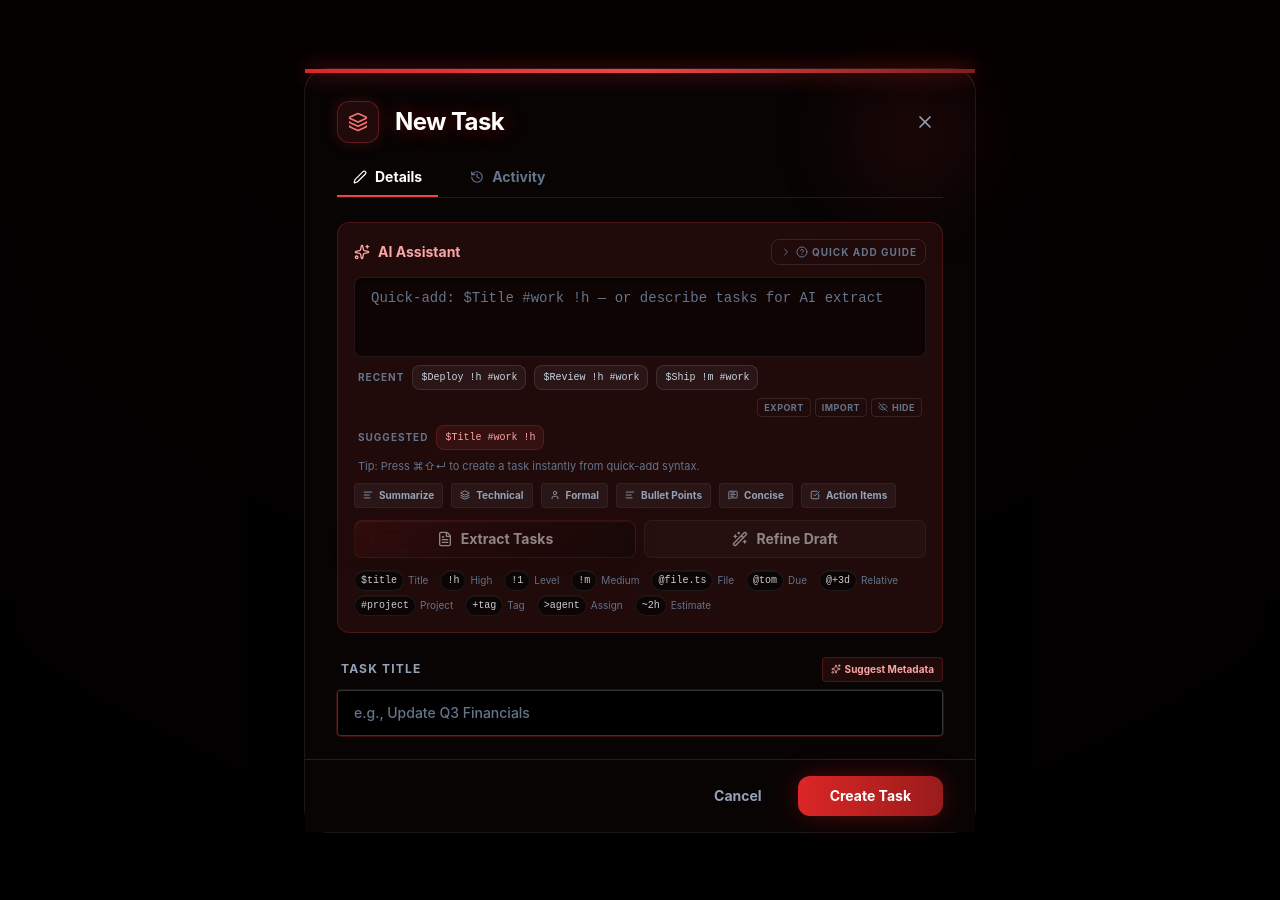
TaskFormModal AI Integration › handles AI Breakdown for subtasks
Type "Main Task" into the field with placeholder "e.g., Update Q3 Financials". click: (640, 712)
box: [337,690,943,736]
(page scrolled)
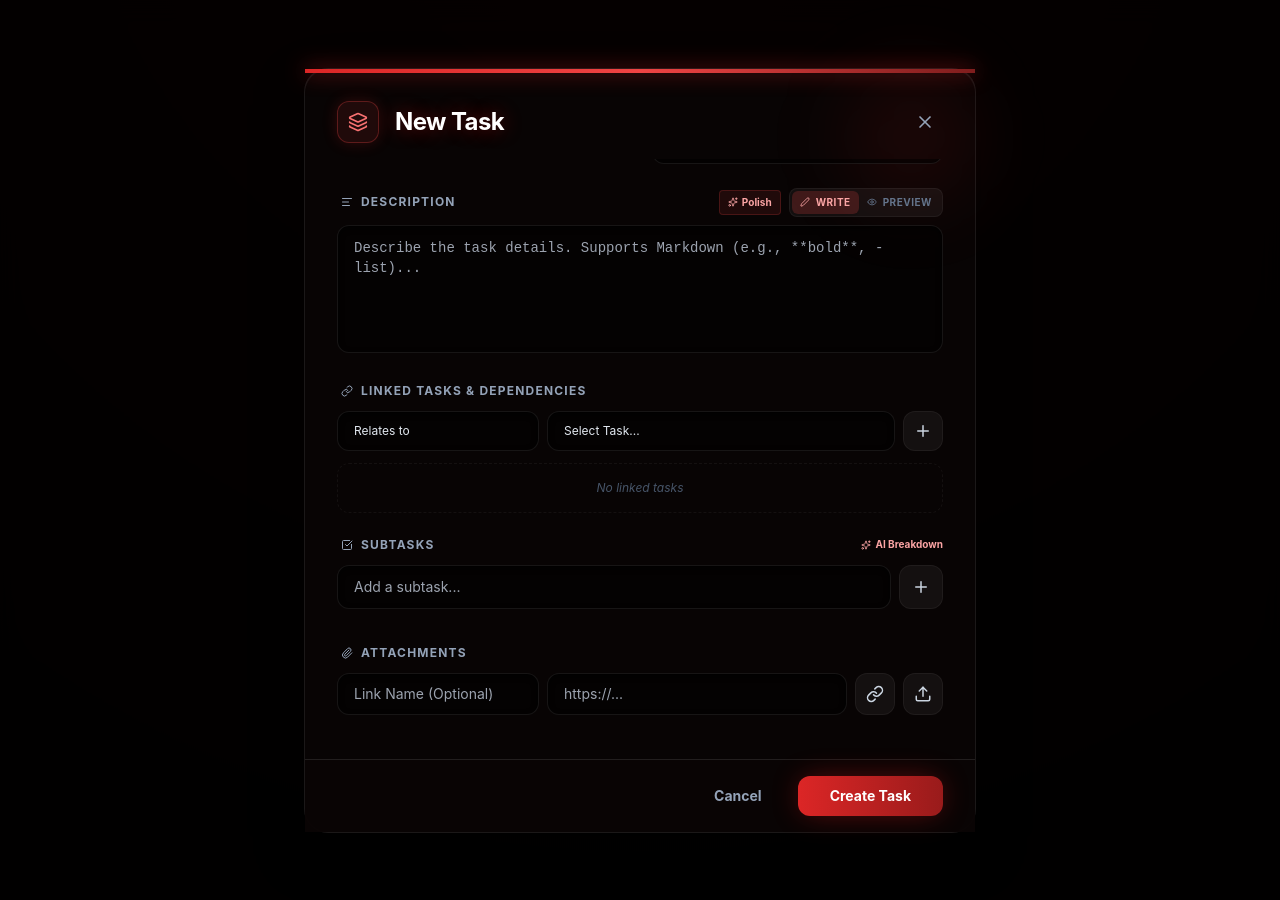
Click the button "AI Breakdown". click: (902, 544)
box: [861,537,943,552]
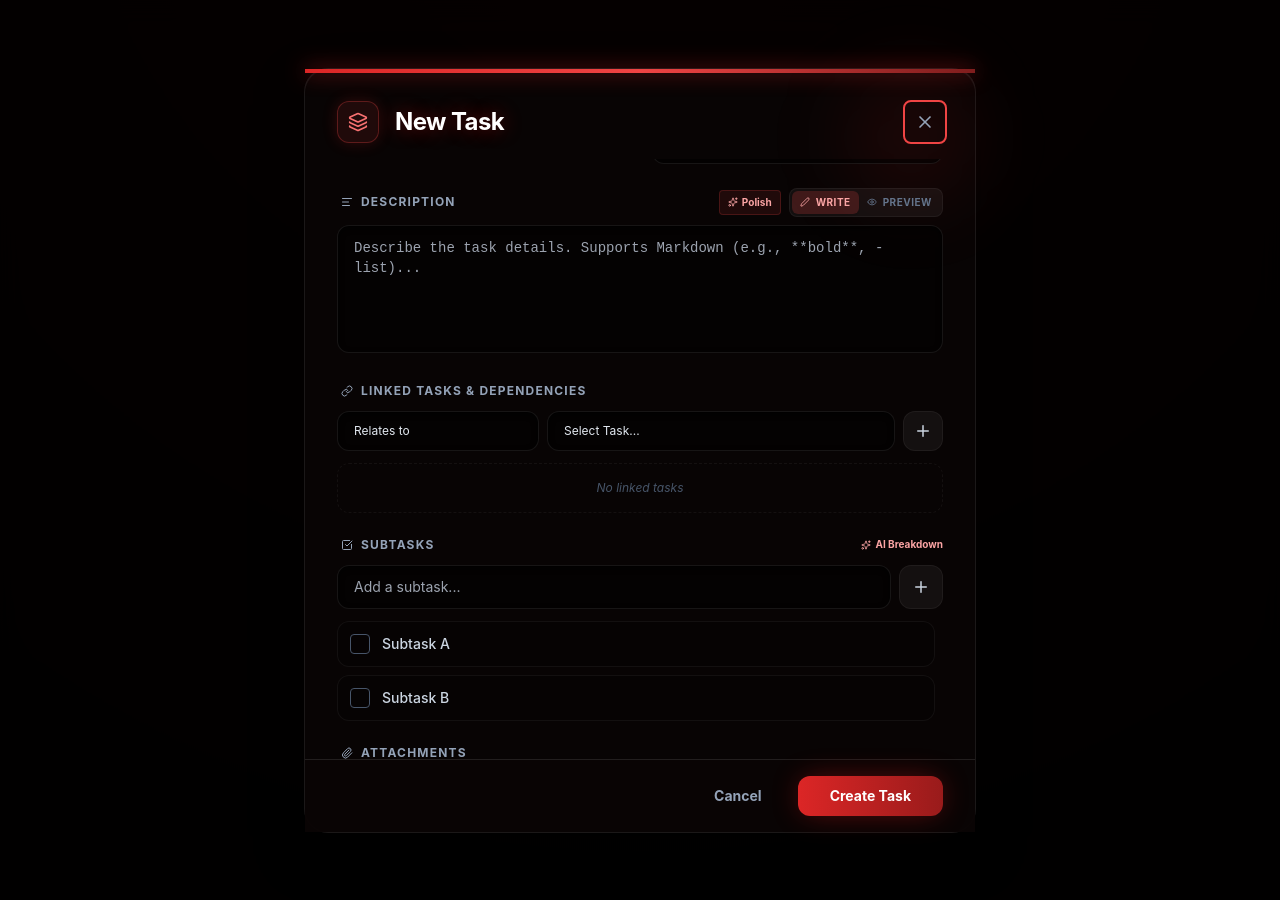
Check: the field showing "Subtask A" is shown, box [382,634,894,654]
Check: the field showing "Subtask B" is shown, box [382,688,894,708]
